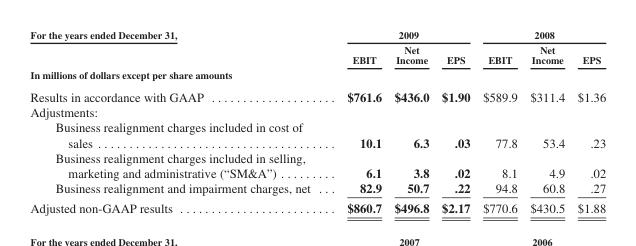table: (29, 28, 605, 214)
table column: (29, 28, 328, 214), (328, 28, 387, 214), (475, 28, 523, 214), (387, 28, 434, 214), (523, 28, 570, 214), (434, 28, 475, 214), (570, 28, 605, 214)
table column header: (29, 28, 605, 67)
table projected row header: (29, 67, 605, 84), (29, 104, 605, 119)
table row: (29, 119, 605, 149), (29, 149, 605, 179), (29, 41, 605, 67), (29, 84, 605, 104), (29, 179, 605, 197), (29, 67, 605, 84), (29, 197, 605, 214), (29, 104, 605, 119), (29, 28, 605, 41)
table spanning cell: (29, 28, 328, 67), (328, 28, 475, 41), (475, 28, 605, 41)
